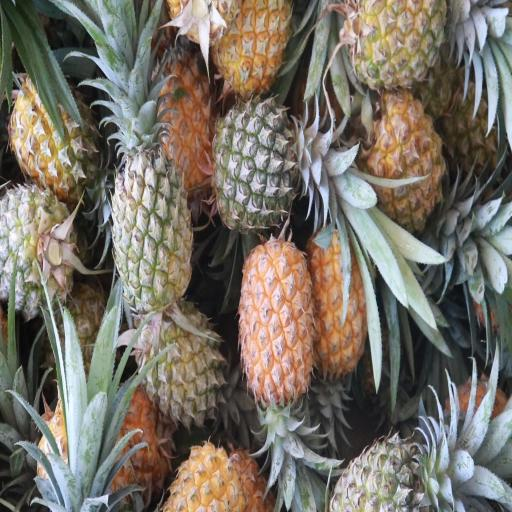------------------------------: (111, 130, 192, 314), (137, 306, 223, 422), (8, 76, 94, 183), (349, 0, 447, 92)
Pineapple - v8 v1: (241, 242, 317, 400), (370, 98, 448, 228), (310, 228, 372, 374), (152, 46, 216, 177), (217, 0, 290, 100)
